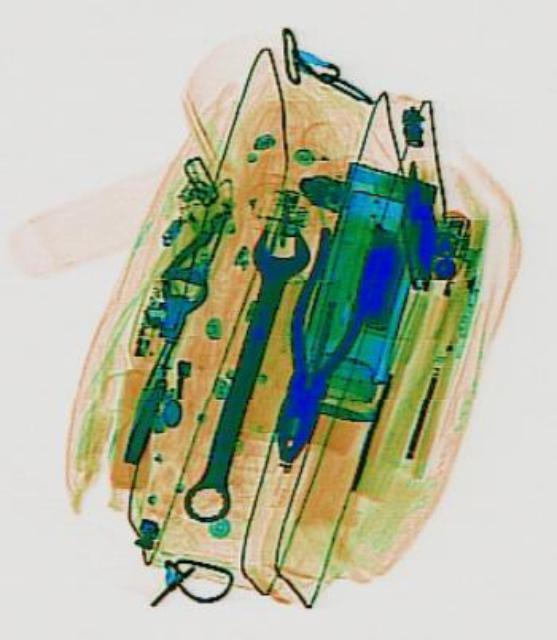Pliers: (249, 206, 386, 470)
Wrench: (171, 218, 312, 526)
